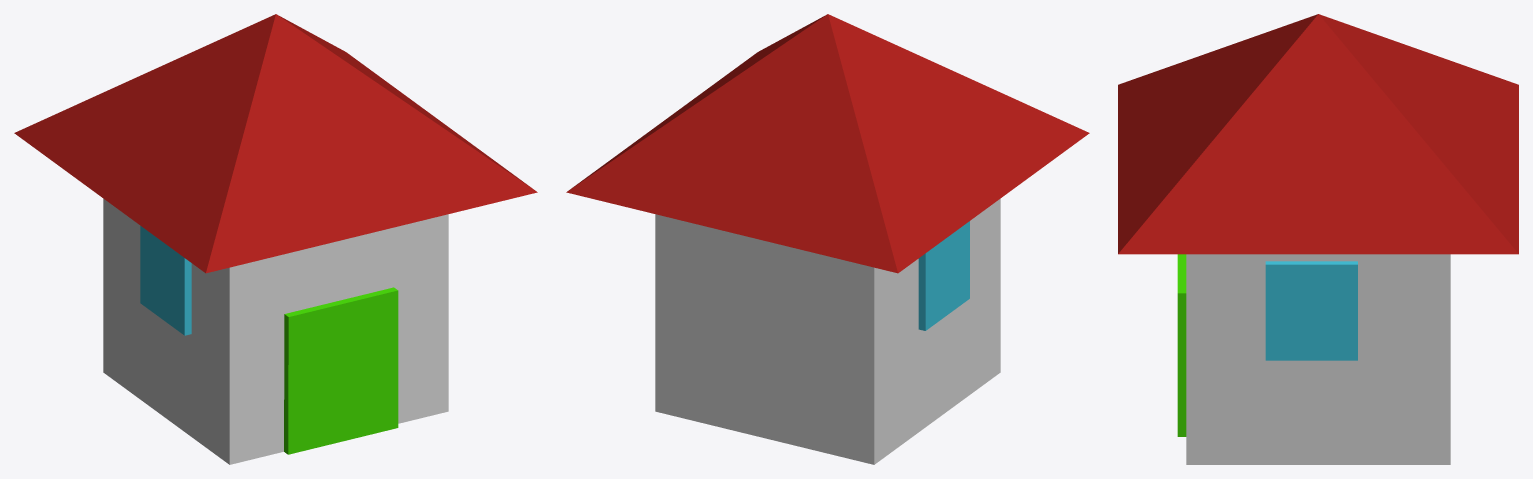
File: house_multiple_mats.gltf
3 views of the same model, side by side, from view 1: azimuth 30°, elevation 25°; view 2: azimuth 150°, elevation 25°; view 3: azimuth 270°, elevation 25° (orthographic). The views are drawn at different scales.
Visible parts, largest first — view 1: Cube; view 2: Cube; view 3: Cube.
Boxes of the visible parts, box(x1,y1,x2,y2) form: Cube: box(14, 14, 537, 464); Cube: box(566, 14, 1089, 464); Cube: box(1118, 14, 1518, 464).
Size of the model in its own units: 3.03 by 3.3 by 3.03.
